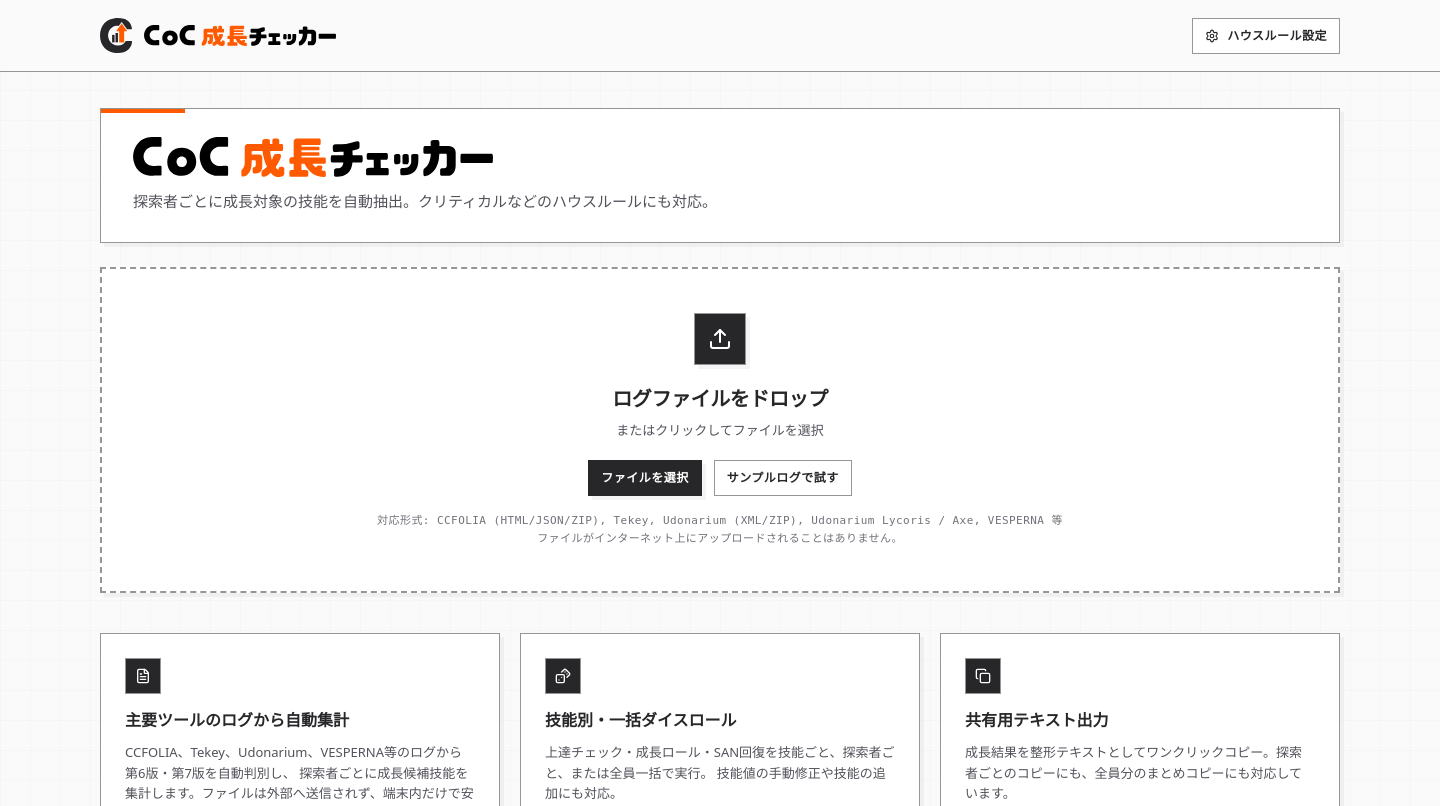
Test: App コンポーネント › サンプルログを読み込むと結果画面へ遷移し、上達チェック・全員まとめコピー・戻るができる
Later steps or results of the test are not shown.
Click the button "サンプルログで試す" at [783, 478], box [714,460,852,496]
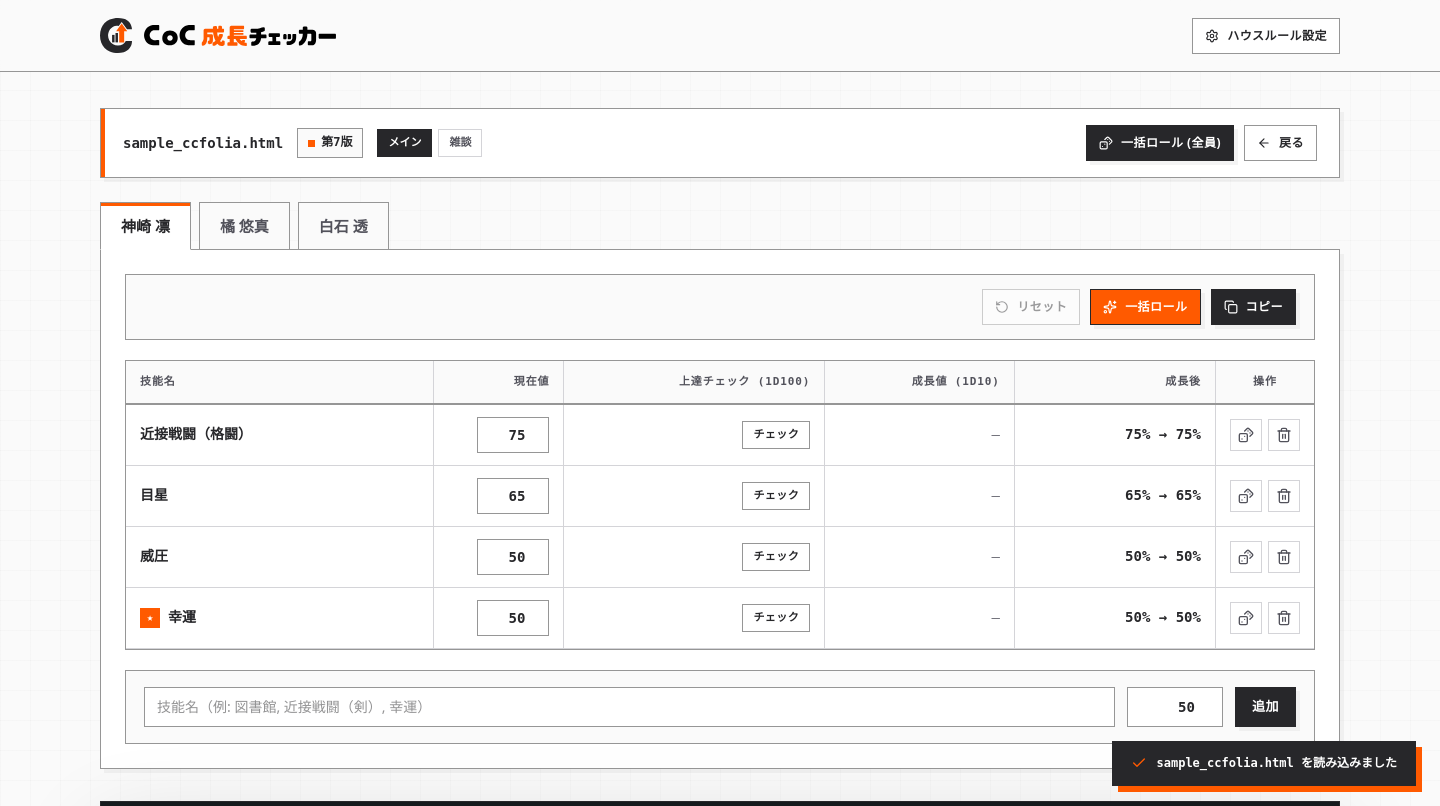
expect the text "sample_ccfolia.html" is shown: met, box [123,132,283,154]
expect the text "メイン" is shown: met, box [377,129,432,157]
expect the text "雑談" is shown: met, box [438,129,482,157]
Click the 1st button "チェック" at [776, 435], box [742,421,810,449]
(page scrolled)
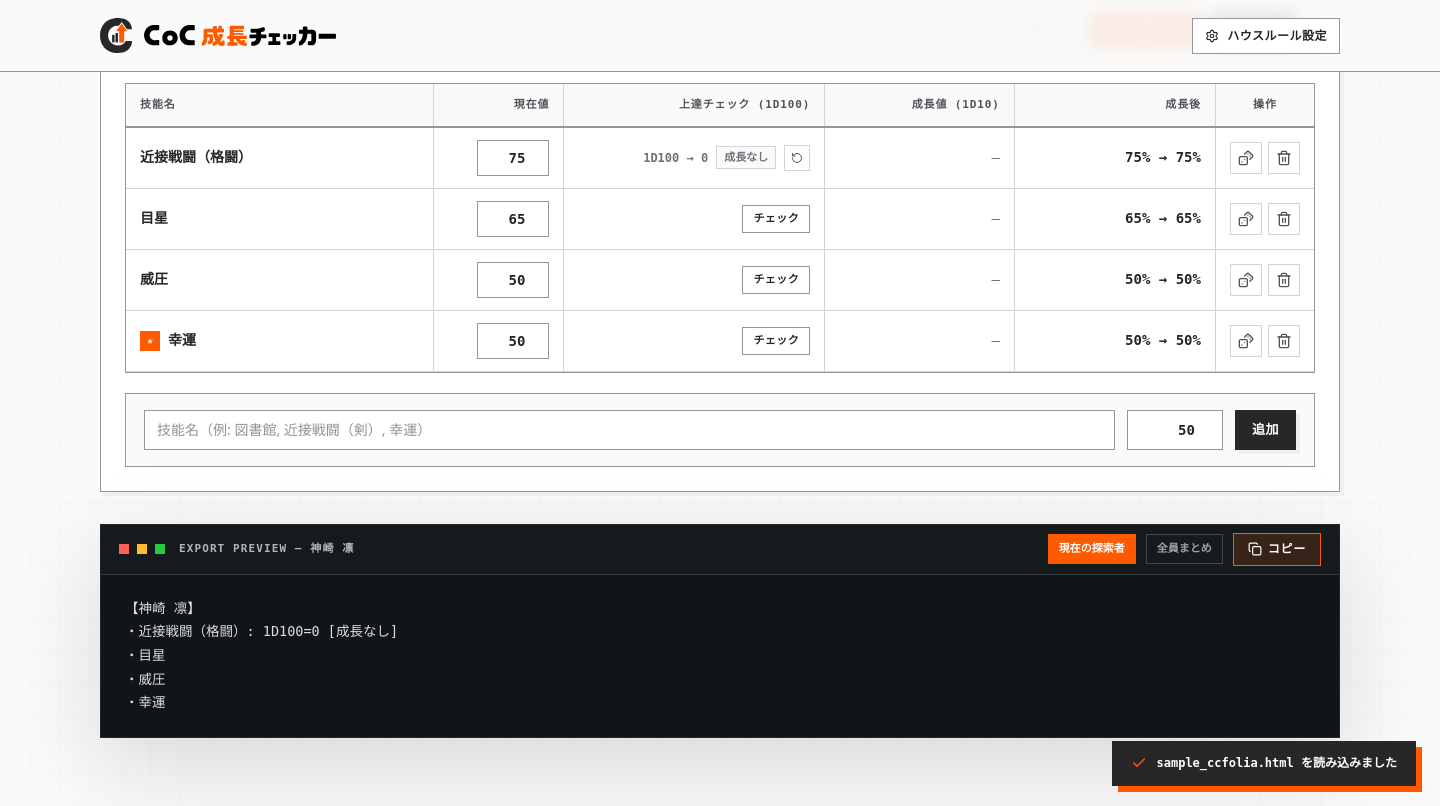
expect the text "成長なし" is shown: met, box [716,146,776,169]
